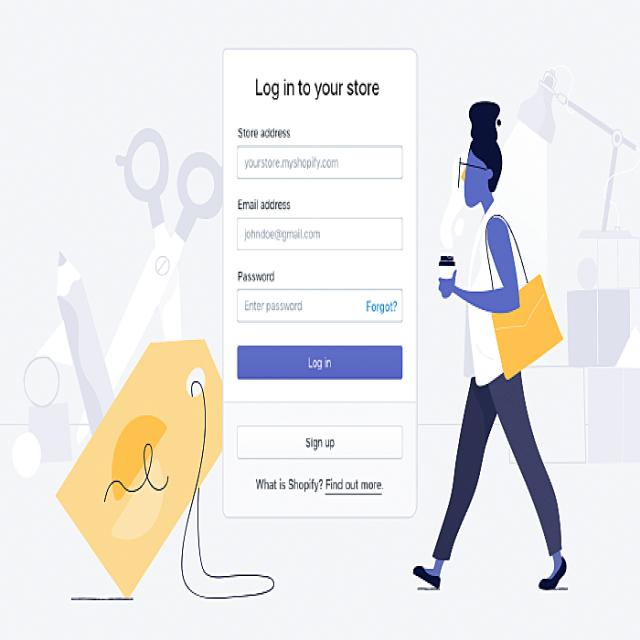Button: (233, 414, 412, 473), (235, 342, 408, 392)
Container: (220, 42, 420, 520)
Input-field: (233, 195, 407, 264), (234, 267, 408, 331), (232, 126, 408, 183)
Text: (250, 66, 386, 108), (255, 474, 386, 500)
ink: (326, 474, 384, 498)
